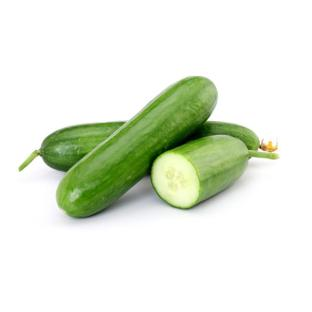Cucumber: (57, 77, 217, 216), (151, 135, 278, 208), (19, 122, 125, 170), (191, 122, 259, 150)
